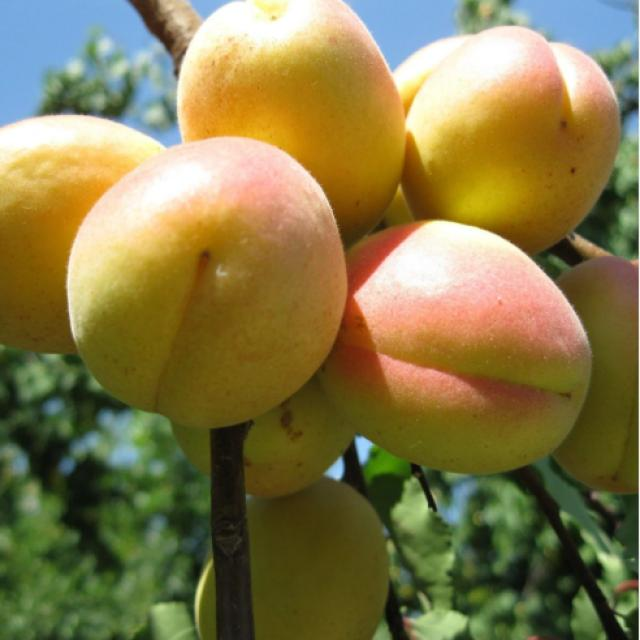kayisi: (66, 141, 348, 428), (323, 216, 594, 477), (393, 0, 624, 256), (177, 0, 408, 237), (2, 115, 156, 353), (190, 478, 384, 640), (554, 256, 640, 493), (171, 418, 352, 504)
